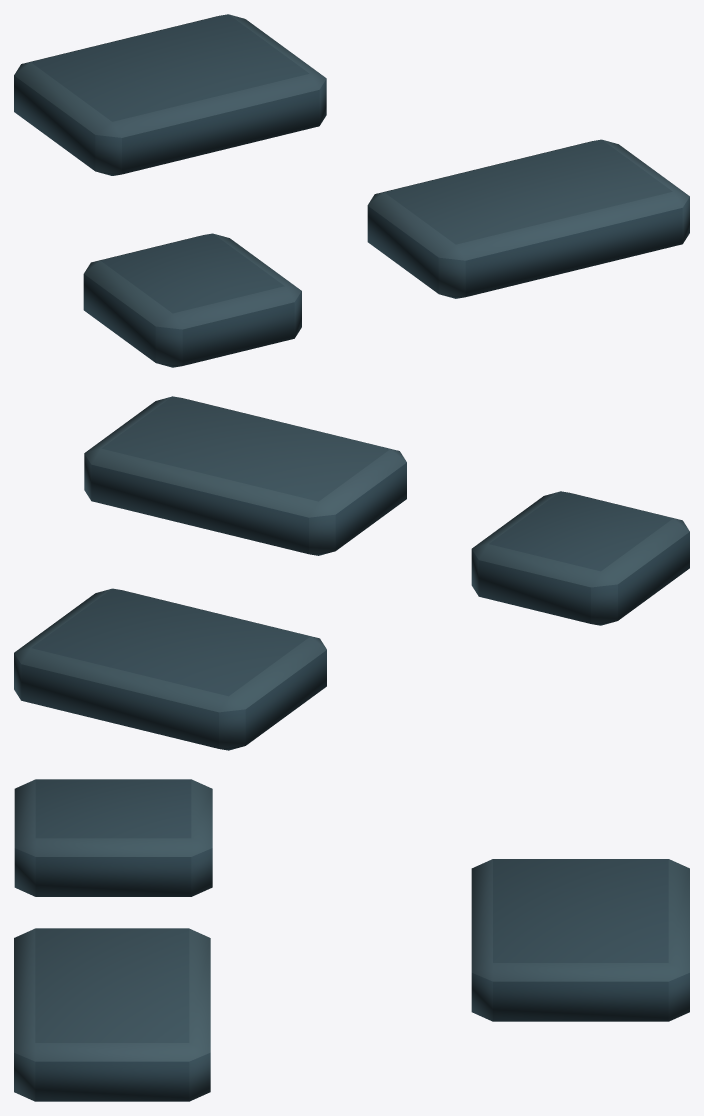
File: stone_path_11.fbx
3 renders of one model, top to bottom at view 1: azimuth 30°, elevation 25°; view 2: azimuth 150°, elevation 25°; view 3: azimuth 270°, elevation 25°, orthographic. The views are drawn at different scales.
Visible parts, largest first — view 1: stone_path_11; view 2: stone_path_11; view 3: stone_path_11.
Boxes of the visible parts, left/top/right/bottom form: stone_path_11: left=14, top=14, right=689, bottom=367; stone_path_11: left=14, top=396, right=689, bottom=750; stone_path_11: left=14, top=779, right=689, bottom=1101.
Bounding box in the file's own units: 188 × 18.28 × 191.
